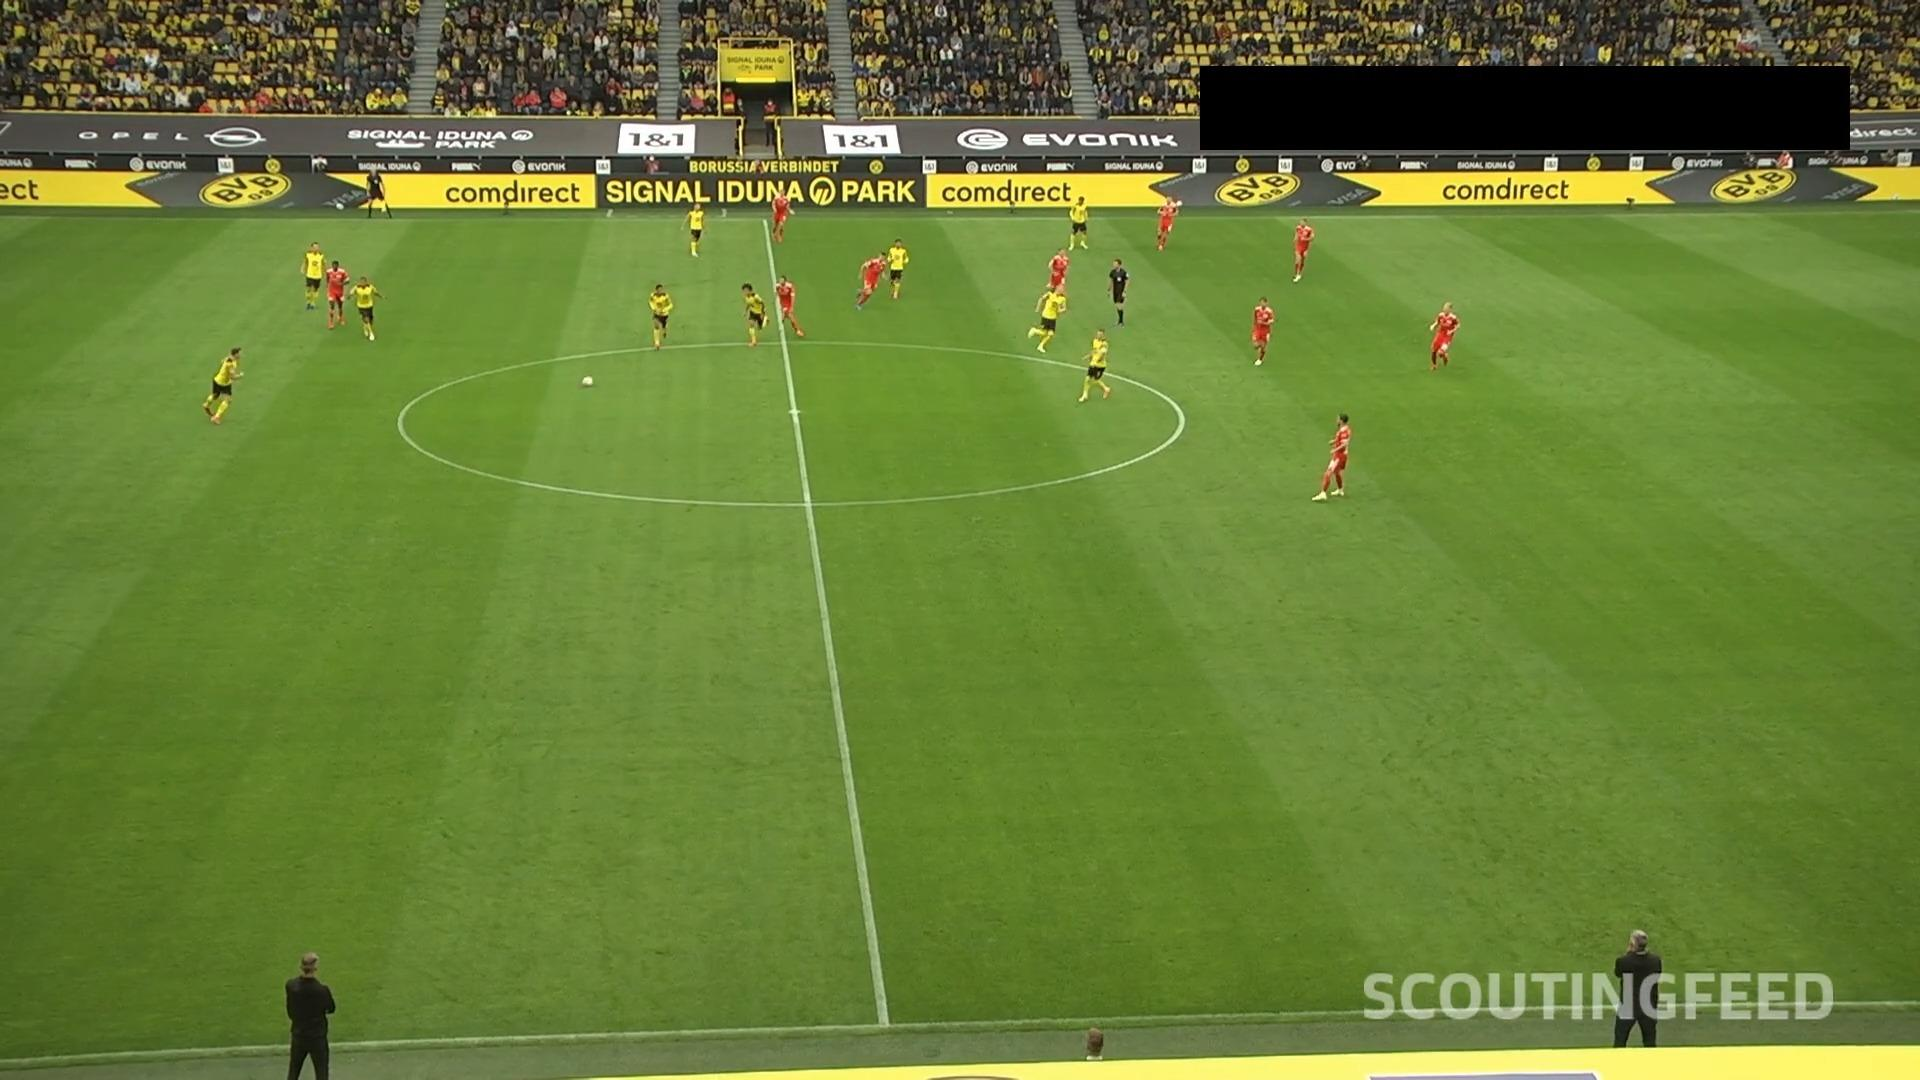ball: (580, 375, 595, 389)
